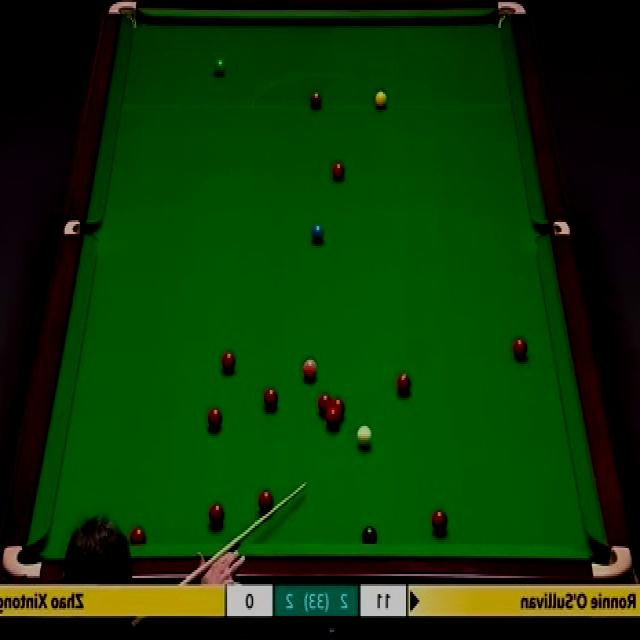black-ball: (360, 525, 378, 546)
blue-ball: (310, 224, 325, 244)
brown-ball: (310, 88, 322, 108)
green-ball: (214, 56, 228, 78)
pink-ball: (301, 359, 318, 384)
red-ball: (264, 385, 282, 411), (432, 508, 449, 535), (220, 349, 236, 375), (258, 490, 274, 516), (397, 370, 413, 396), (208, 504, 226, 527), (331, 160, 347, 183), (209, 408, 223, 434), (513, 338, 528, 362), (332, 398, 346, 422), (318, 393, 331, 418), (130, 525, 146, 545), (324, 411, 340, 430)
white-ball: (356, 426, 372, 450)
yellow-ball: (374, 91, 388, 109)
